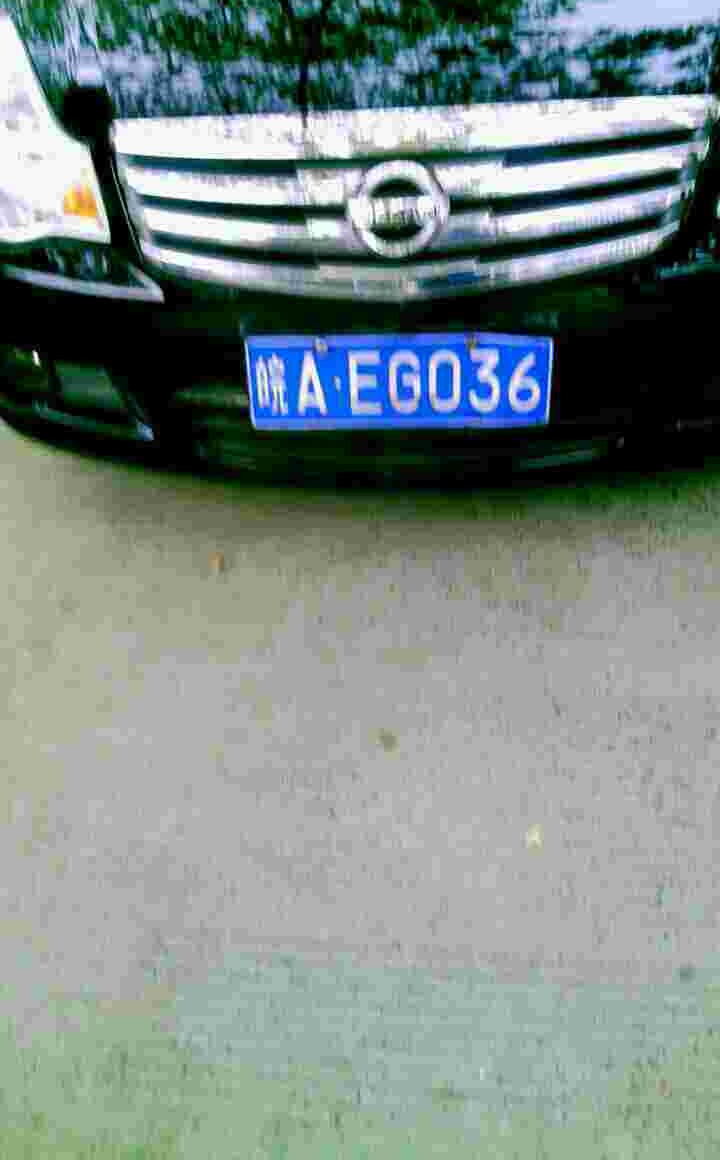license_plate: (244, 335, 543, 432)
